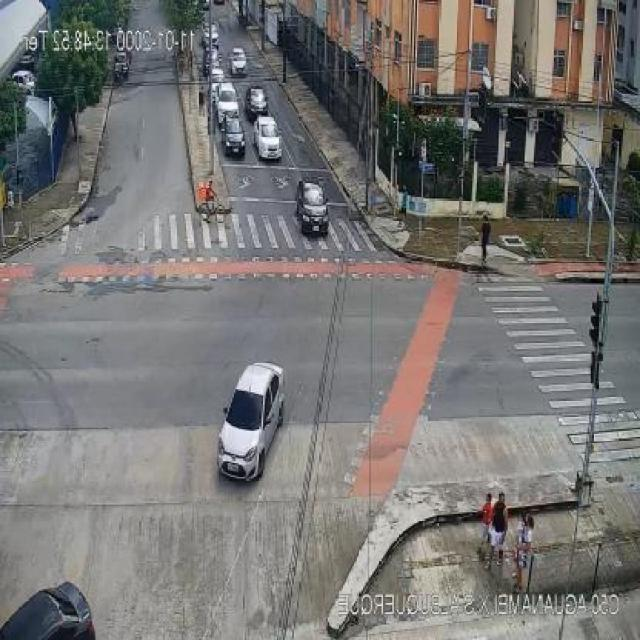Car: (215, 362, 285, 482), (0, 581, 96, 640), (296, 178, 330, 235), (254, 116, 282, 160), (216, 83, 240, 126), (222, 115, 246, 156), (245, 87, 268, 121), (12, 70, 36, 93), (229, 48, 248, 76), (201, 23, 219, 48), (204, 48, 220, 74), (17, 52, 36, 72), (113, 52, 130, 74), (209, 66, 225, 88)
Cycle: (197, 192, 227, 223)
